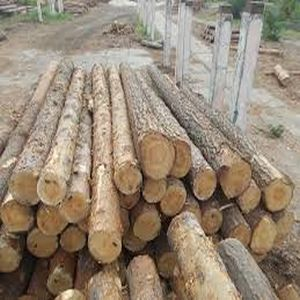log: (136, 126, 175, 187), (219, 160, 255, 201), (33, 172, 72, 208), (8, 169, 43, 209), (88, 227, 125, 264), (262, 174, 295, 215), (130, 207, 165, 243), (59, 189, 92, 227), (234, 173, 263, 216), (1, 199, 36, 234), (252, 216, 280, 257), (169, 133, 192, 182), (159, 183, 190, 219), (35, 205, 70, 236), (114, 162, 145, 196), (138, 174, 169, 205), (27, 230, 61, 258), (194, 167, 219, 204), (227, 219, 255, 251), (112, 188, 143, 215), (1, 240, 21, 277), (274, 210, 297, 240), (59, 227, 87, 251), (203, 207, 224, 236)
